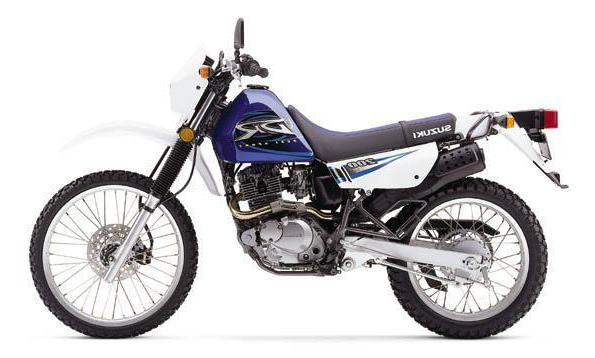motorcycle: (13, 15, 579, 348)
